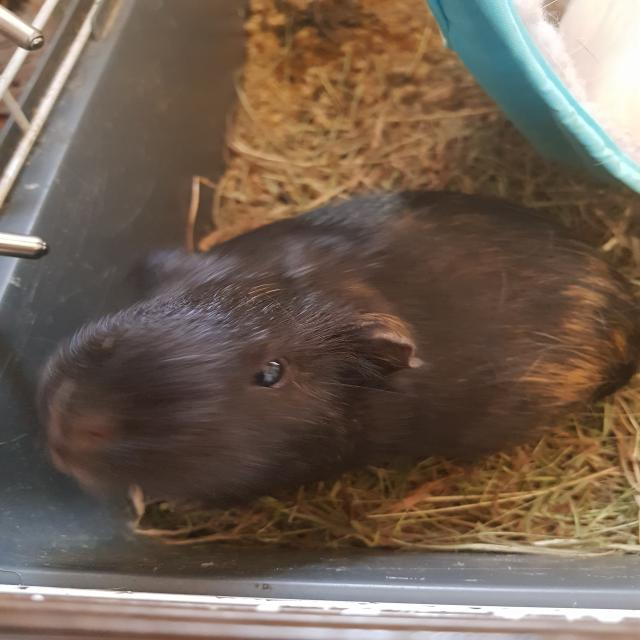guinea pig: (27, 186, 640, 515)
